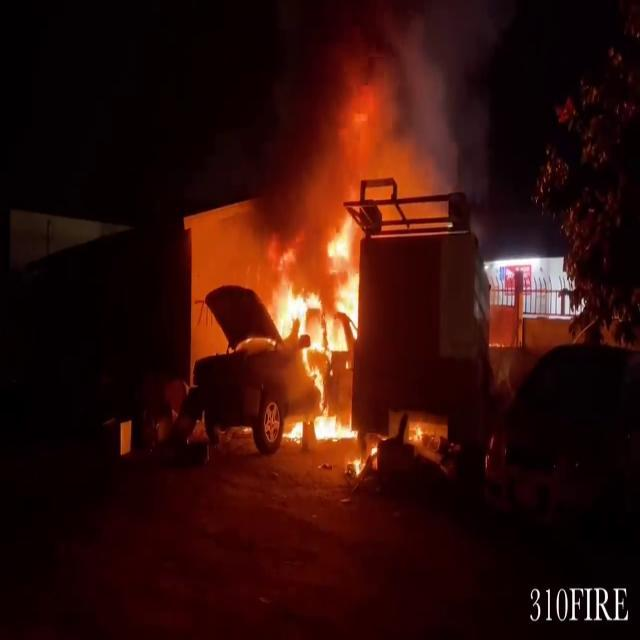Fire: (268, 217, 372, 446)
Smoke: (262, 0, 490, 236)
